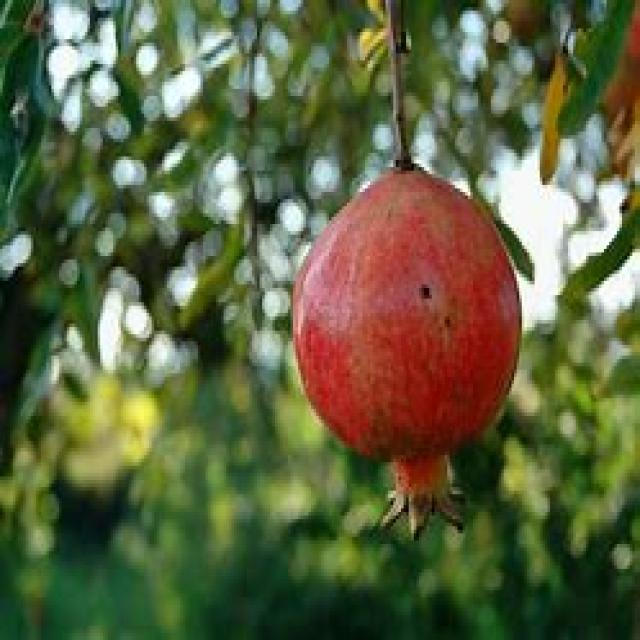Pomegranate: (289, 150, 525, 539)
